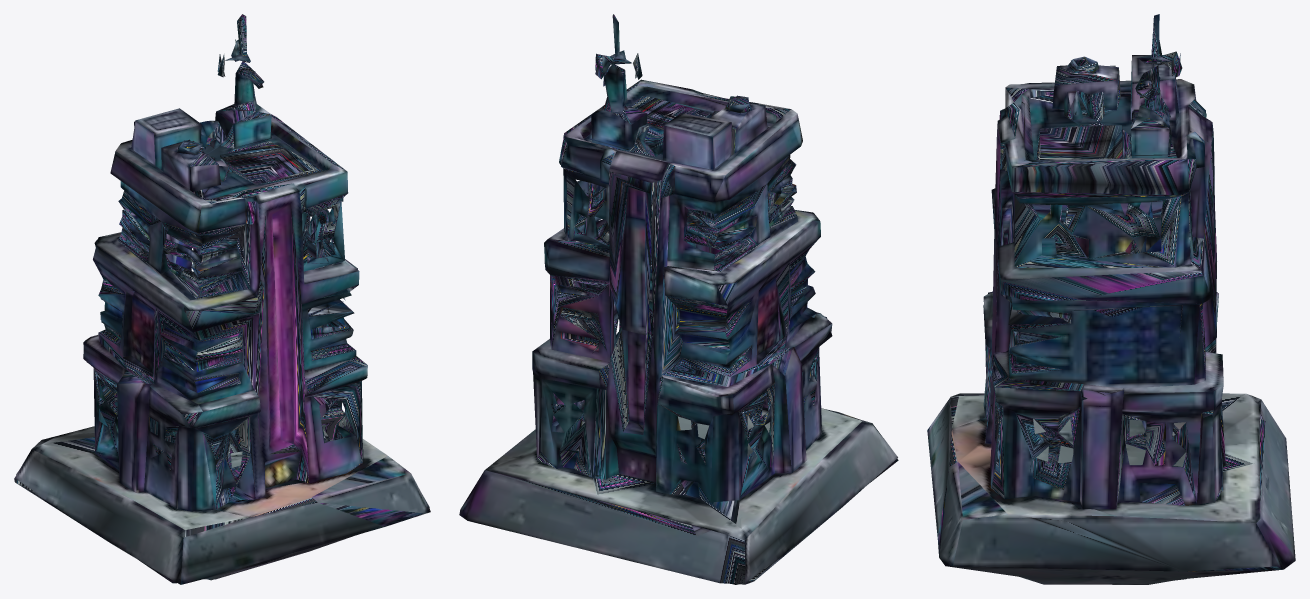
The model's file is tower-a-lite.glb.
3 renders of one model, left to right at view 1: azimuth 30°, elevation 25°; view 2: azimuth 150°, elevation 25°; view 3: azimuth 270°, elevation 25°, orthographic. The views are drawn at different scales.
Parts seen in each view (by area): view 1: geometry_0; view 2: geometry_0; view 3: geometry_0.
Boxes of the visible parts, left/top/right/bottom form: geometry_0: left=14, top=14, right=430, bottom=584; geometry_0: left=459, top=14, right=898, bottom=584; geometry_0: left=927, top=14, right=1295, bottom=584.
Size of the model in its own units: 0.5037 by 0.9097 by 0.5236.
1 material, 1 textured.
